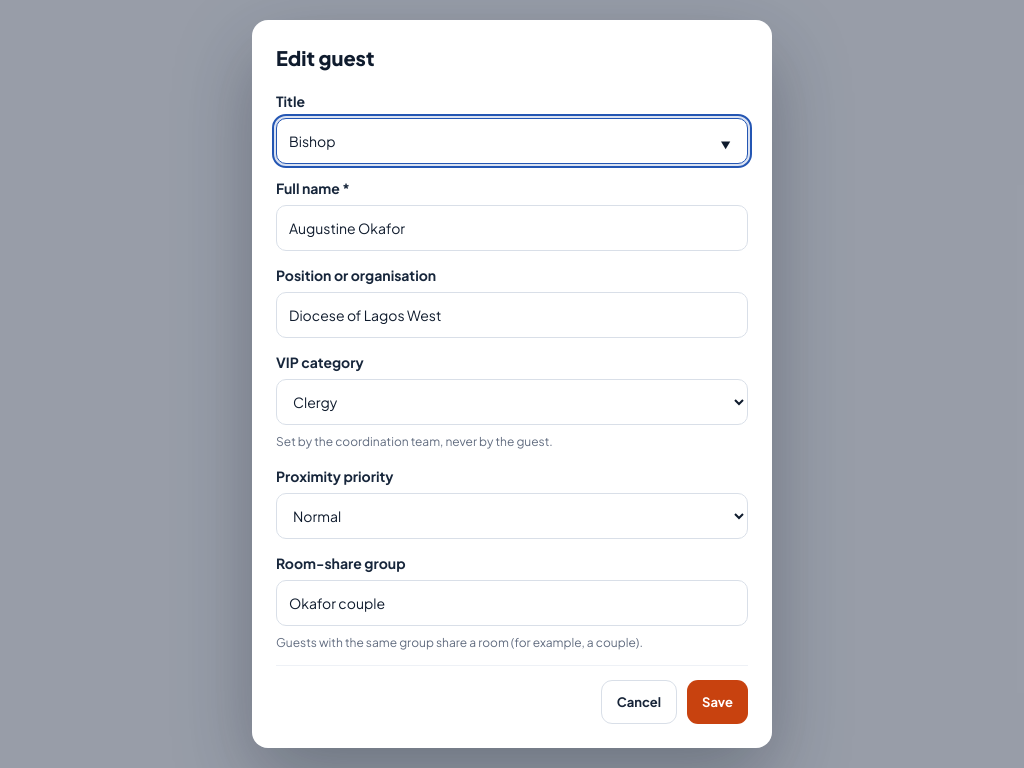
Test: EditGuestDialog › shows a conflicting edit and keeps the dialog open
This screenshot has width=1024, height=768.
Type " (Anglican)" into the field labelled "Position or organisation".
click(512, 315); type(" (Anglican)")  # box [276,292,748,338]
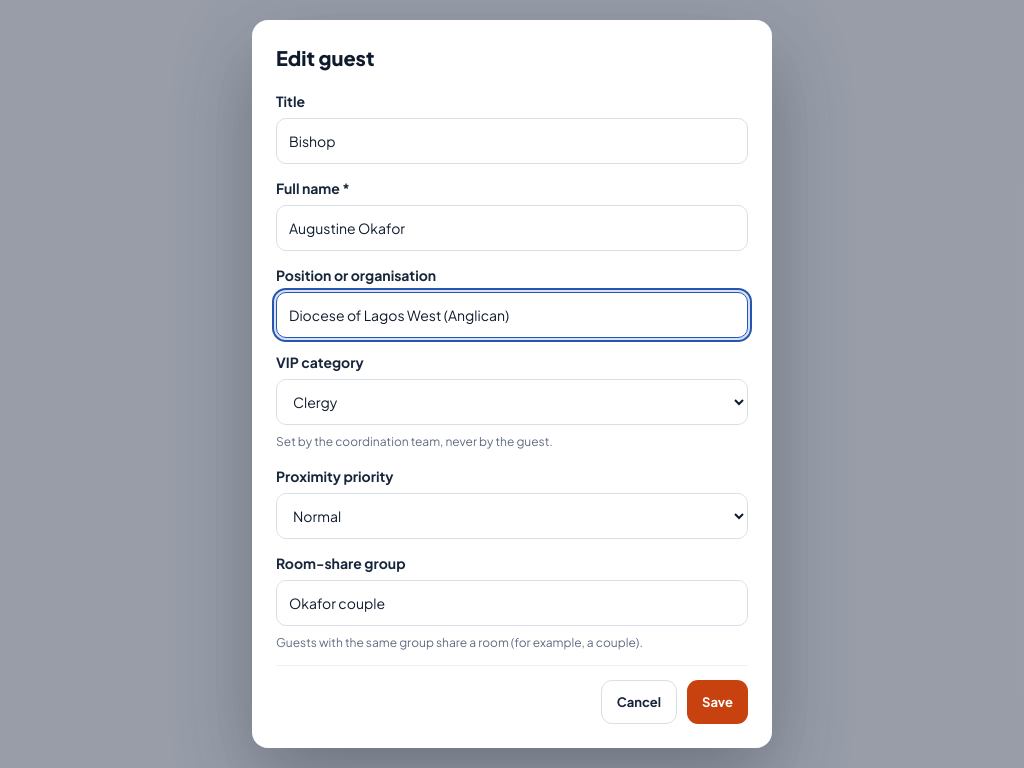
Click the button "Save".
click(718, 702)  # box [687,680,748,724]
(page scrolled)
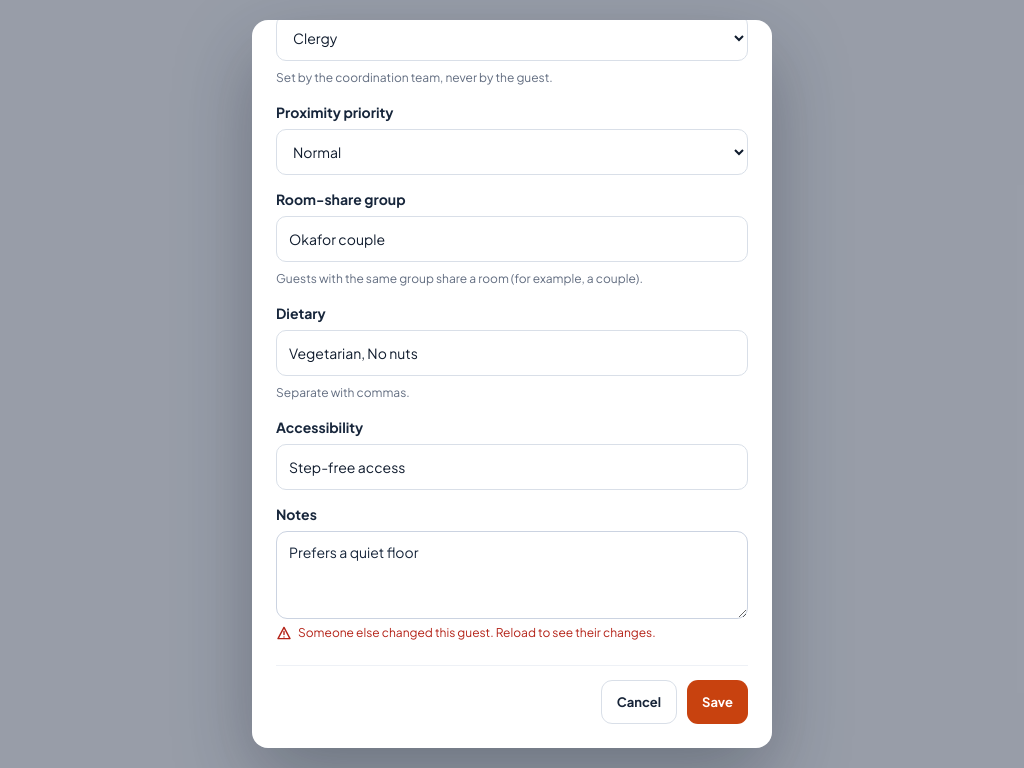
Check: the message reads "Someone else changed this guest. Reload to see their changes.", box [298,625,656,640]
